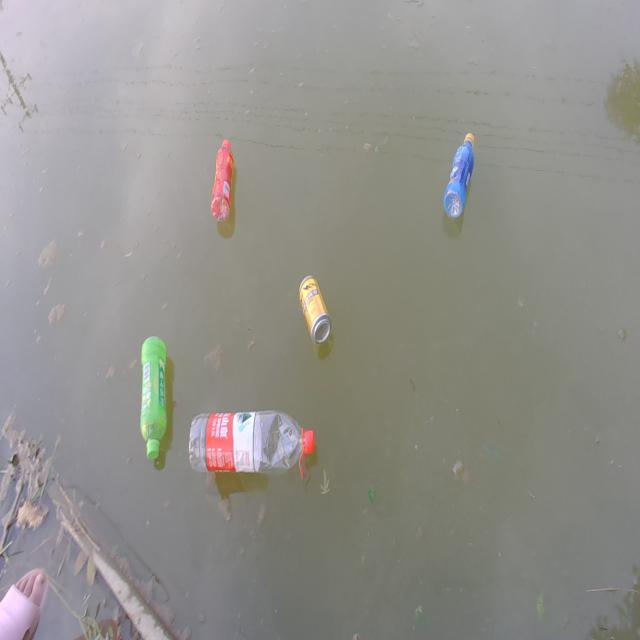garbage: (188, 409, 316, 479), (140, 335, 168, 460), (443, 131, 475, 218), (299, 274, 332, 345), (211, 138, 234, 222)
